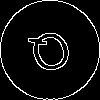Q: (25, 25, 79, 84)
